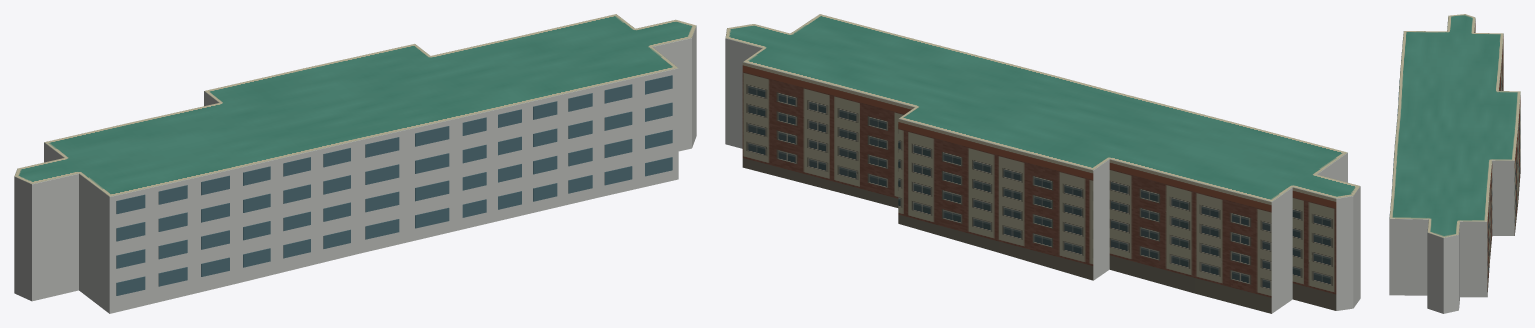
The model's file is intact.glb.
The picture shows the model from 3 angles, left to right: view 1: azimuth 30°, elevation 25°; view 2: azimuth 150°, elevation 25°; view 3: azimuth 270°, elevation 25°; orthographic projection. The views are drawn at different scales.
Parts seen in each view (by area): view 1: SM_dorm-b_Intact_00, SM_dorm-b_Intact_01; view 2: SM_dorm-b_Intact_00; view 3: SM_dorm-b_Intact_00.
Part boxes in pixels (x1,y1,x2,y2): SM_dorm-b_Intact_00: (14, 14, 696, 313); SM_dorm-b_Intact_01: (116, 75, 672, 295); SM_dorm-b_Intact_00: (725, 14, 1360, 313); SM_dorm-b_Intact_00: (1389, 14, 1520, 313).
Bounding box in the file's own units: 2.2 × 0.3698 × 0.546.
Materials: 5 (2 with a texture image).
